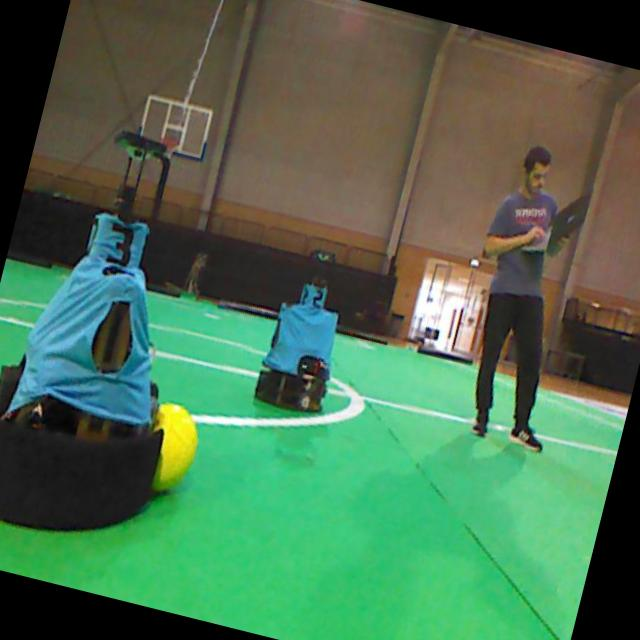ball: (152, 403, 197, 490)
